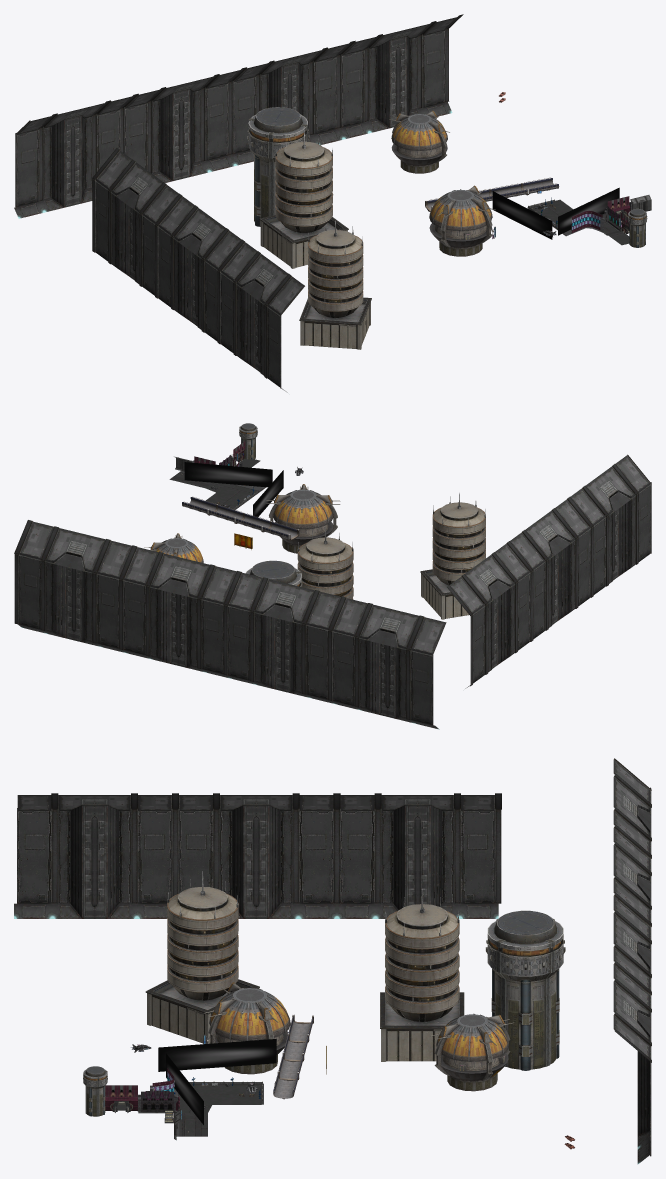
File: env_cor_slums_pre.glb
3 renders of one model, top to bottom at view 1: azimuth 30°, elevation 25°; view 2: azimuth 150°, elevation 25°; view 3: azimuth 270°, elevation 25°, orthographic. The views are drawn at different scales.
Parts seen in each view (by area): view 1: cor_slums_wall_08 (2) (×2), cor_slums_wall_08 (1) (×2), cor_slums_wall_08 (×2), cor_slums_wall_08 (3), cor_slums_building_02 (1), cor_slums_building_02, cor_slums_building_01, cor_slums_building_03, cor_slums_building_03 (1), fogplane_01_mesh 1, fogplane_01_mesh, cor_slums_building_01 (2) (+1 smaller); view 2: cor_slums_wall_08 (2) (×2), cor_slums_wall_08 (1) (×2), cor_slums_wall_08 (×2), cor_slums_wall_08 (3), cor_slums_building_02 (1), cor_slums_building_02, cor_slums_building_03, fogplane_01_mesh, cor_slums_ground_01_mesh, cor_slums_building_01, cor_slums_building_03 (1), fogplane_01_mesh 1 (+1 smaller); view 3: cor_slums_wall_08 (2) (×2), cor_slums_wall_08 (1) (×2), cor_slums_wall_08 (×2), cor_slums_building_02, cor_slums_building_02 (1), cor_slums_building_01, cor_slums_building_03 (1), cor_slums_building_03, fogplane_01_mesh 1, cor_slums_wall_08 (3), cor_slums_ground_01_mesh, cor_slums_building_01 (2) (+3 smaller).
Part boxes in pixels (left/top/right/bottom): cor_slums_wall_08 (2) (×2): left=92, top=14, right=463, bottom=295; cor_slums_wall_08 (1) (×2): left=123, top=67, right=304, bottom=392; cor_slums_wall_08 (×2): left=154, top=41, right=354, bottom=341; cor_slums_wall_08 (3): left=14, top=94, right=137, bottom=218; cor_slums_building_02 (1): left=299, top=220, right=371, bottom=349; cor_slums_building_02: left=259, top=130, right=348, bottom=268; cor_slums_building_01: left=247, top=107, right=309, bottom=226; cor_slums_building_03: left=429, top=185, right=495, bottom=256; cor_slums_building_03 (1): left=389, top=110, right=449, bottom=173; fogplane_01_mesh 1: left=492, top=191, right=552, bottom=239; fogplane_01_mesh: left=558, top=187, right=619, bottom=235; cor_slums_building_01 (2): left=628, top=208, right=647, bottom=247; cor_slums_wall_08 (2) (×2): left=14, top=520, right=530, bottom=688; cor_slums_wall_08 (1) (×2): left=223, top=454, right=651, bottom=703; cor_slums_wall_08 (×2): left=119, top=498, right=591, bottom=678; cor_slums_wall_08 (3): left=328, top=596, right=446, bottom=729; cor_slums_building_02 (1): left=420, top=493, right=485, bottom=619; cor_slums_building_02: left=297, top=528, right=353, bottom=599; cor_slums_building_03: left=266, top=484, right=340, bottom=553; fogplane_01_mesh: left=184, top=462, right=272, bottom=487; cor_slums_ground_01_mesh: left=169, top=472, right=258, bottom=509; cor_slums_building_01: left=245, top=560, right=302, bottom=586; cor_slums_building_03 (1): left=144, top=533, right=203, bottom=562; fogplane_01_mesh 1: left=253, top=470, right=283, bottom=517; cor_slums_wall_08 (2) (×2): left=337, top=793, right=651, bottom=1164; cor_slums_wall_08 (1) (×2): left=14, top=793, right=651, bottom=925; cor_slums_wall_08 (×2): left=178, top=793, right=651, bottom=994; cor_slums_building_02: left=380, top=889, right=464, bottom=1061; cor_slums_building_02 (1): left=145, top=871, right=259, bottom=1043; cor_slums_building_01: left=485, top=910, right=565, bottom=1070; cor_slums_building_03 (1): left=431, top=1013, right=513, bottom=1091; cor_slums_building_03: left=204, top=982, right=290, bottom=1074; fogplane_01_mesh 1: left=158, top=1039, right=276, bottom=1071; cor_slums_wall_08 (3): left=613, top=758, right=651, bottom=857; cor_slums_ground_01_mesh: left=178, top=1084, right=261, bottom=1136; cor_slums_building_01 (2): left=83, top=1066, right=107, bottom=1116.
Size of the model in its own units: 306 by 84.77 by 284.
Materials: 32 (32 with a texture image).
